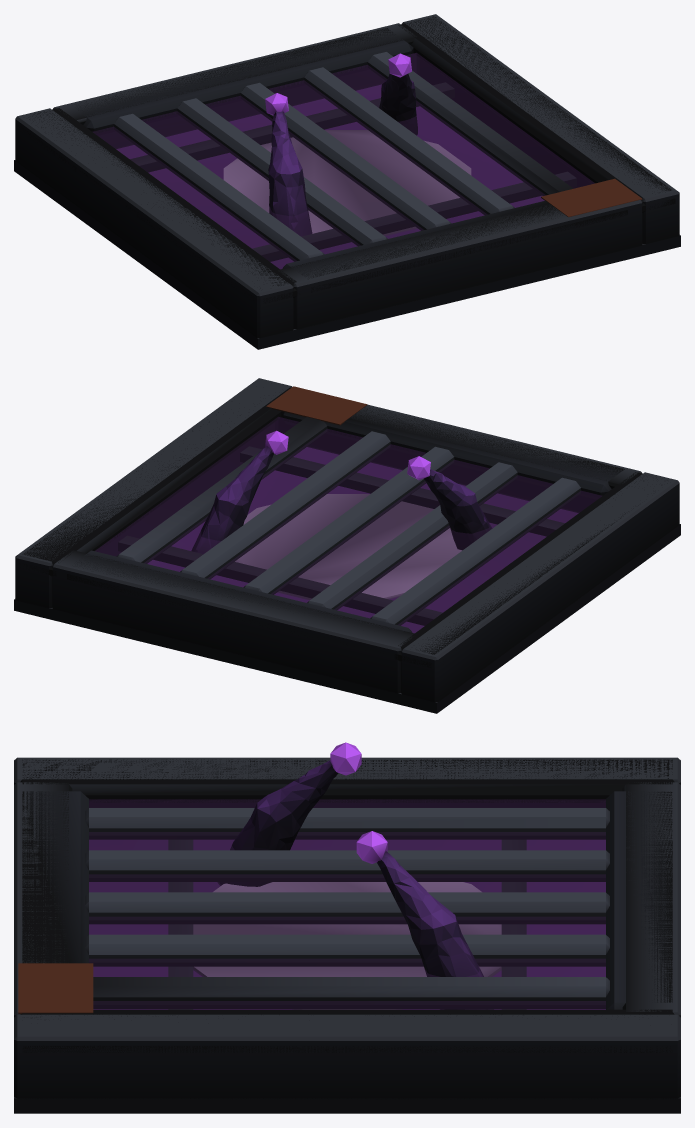
The model's file is FloorGrate.fbx.
3 views of the same model, one above another, from view 1: azimuth 30°, elevation 25°; view 2: azimuth 150°, elevation 25°; view 3: azimuth 270°, elevation 25° (orthographic). The views are drawn at different scales.
Visible parts, largest first — view 1: Body, Haze_Glow, Under_Glow; view 2: Body, Haze_Glow, Under_Glow; view 3: Body, Haze_Glow, Under_Glow.
Boxes of the visible parts, <box> form: Body: <box>14,14,680,349</box>; Haze_Glow: <box>93,53,594,269</box>; Under_Glow: <box>116,53,544,269</box>; Body: <box>14,378,680,713</box>; Haze_Glow: <box>95,417,601,633</box>; Under_Glow: <box>147,430,578,633</box>; Body: <box>14,757,680,1113</box>; Haze_Glow: <box>89,799,605,1009</box>; Under_Glow: <box>89,742,605,1009</box>.
Bounding box in the file's own units: 8 × 2.42 × 8.
